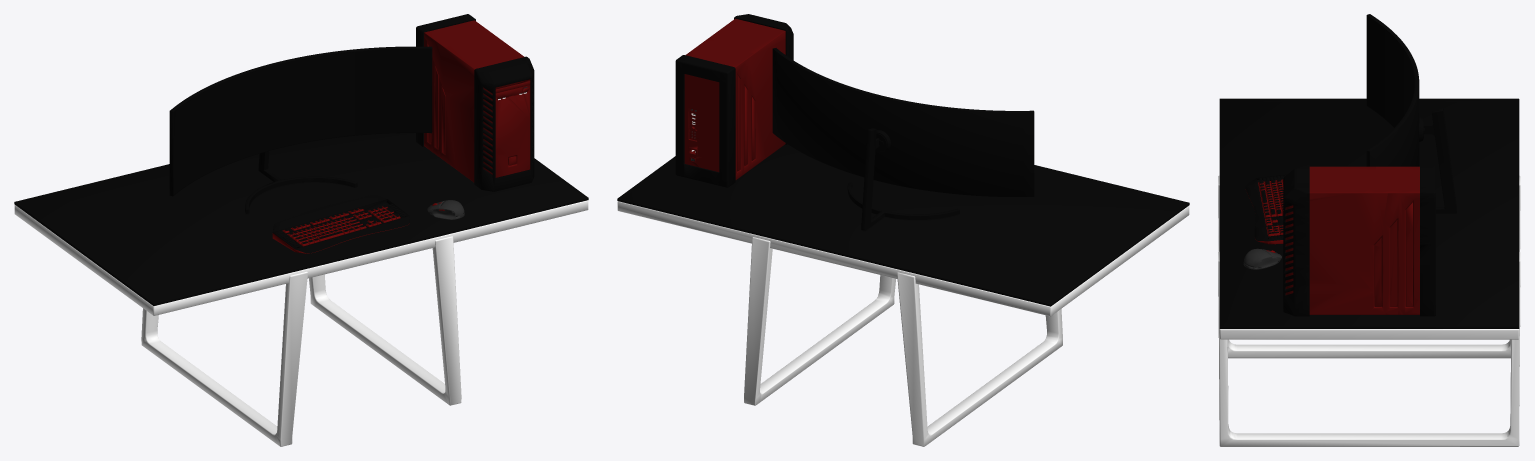
Rendered from pc_curved.glb.
3 views of the same model, side by side, from view 1: azimuth 30°, elevation 25°; view 2: azimuth 150°, elevation 25°; view 3: azimuth 270°, elevation 25° (orthographic). The views are drawn at different scales.
Parts seen in each view (by area): view 1: Object_3, Object_2; view 2: Object_3, Object_2; view 3: Object_3, Object_2.
Boxes of the visible parts, x1,y1,x2,y2 form: Object_3: (14,14,588,446); Object_2: (14,133,588,305); Object_3: (617,14,1189,446); Object_2: (617,144,1189,306); Object_3: (1218,14,1520,446); Object_2: (1219,98,1519,328).
Size of the model in its own units: 1.8 by 1.17 by 1.01.
Materials: 3 (3 with a texture image).
